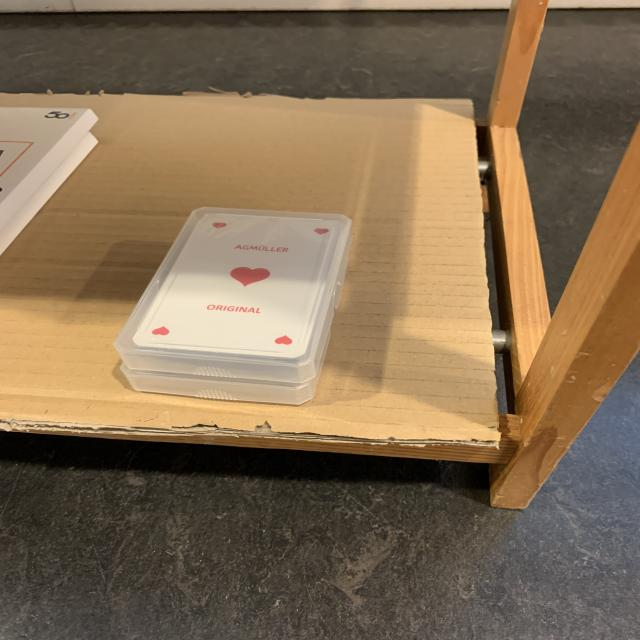Jasskarte: (114, 207, 351, 393), (120, 364, 319, 405)
